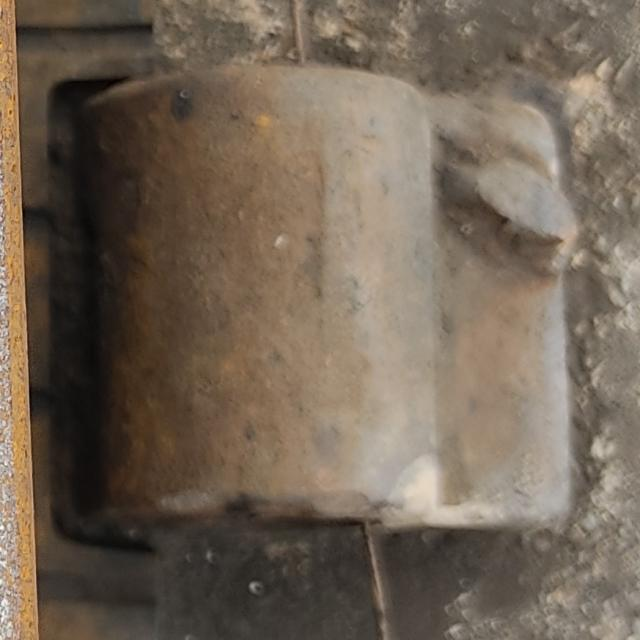track_bolt_missing: (75, 48, 444, 543)
